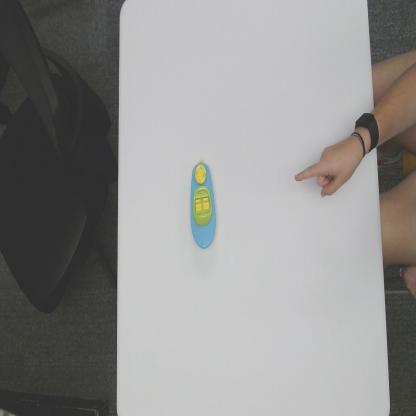Boat: (189, 156, 218, 251)
Hand: (293, 136, 363, 202)
